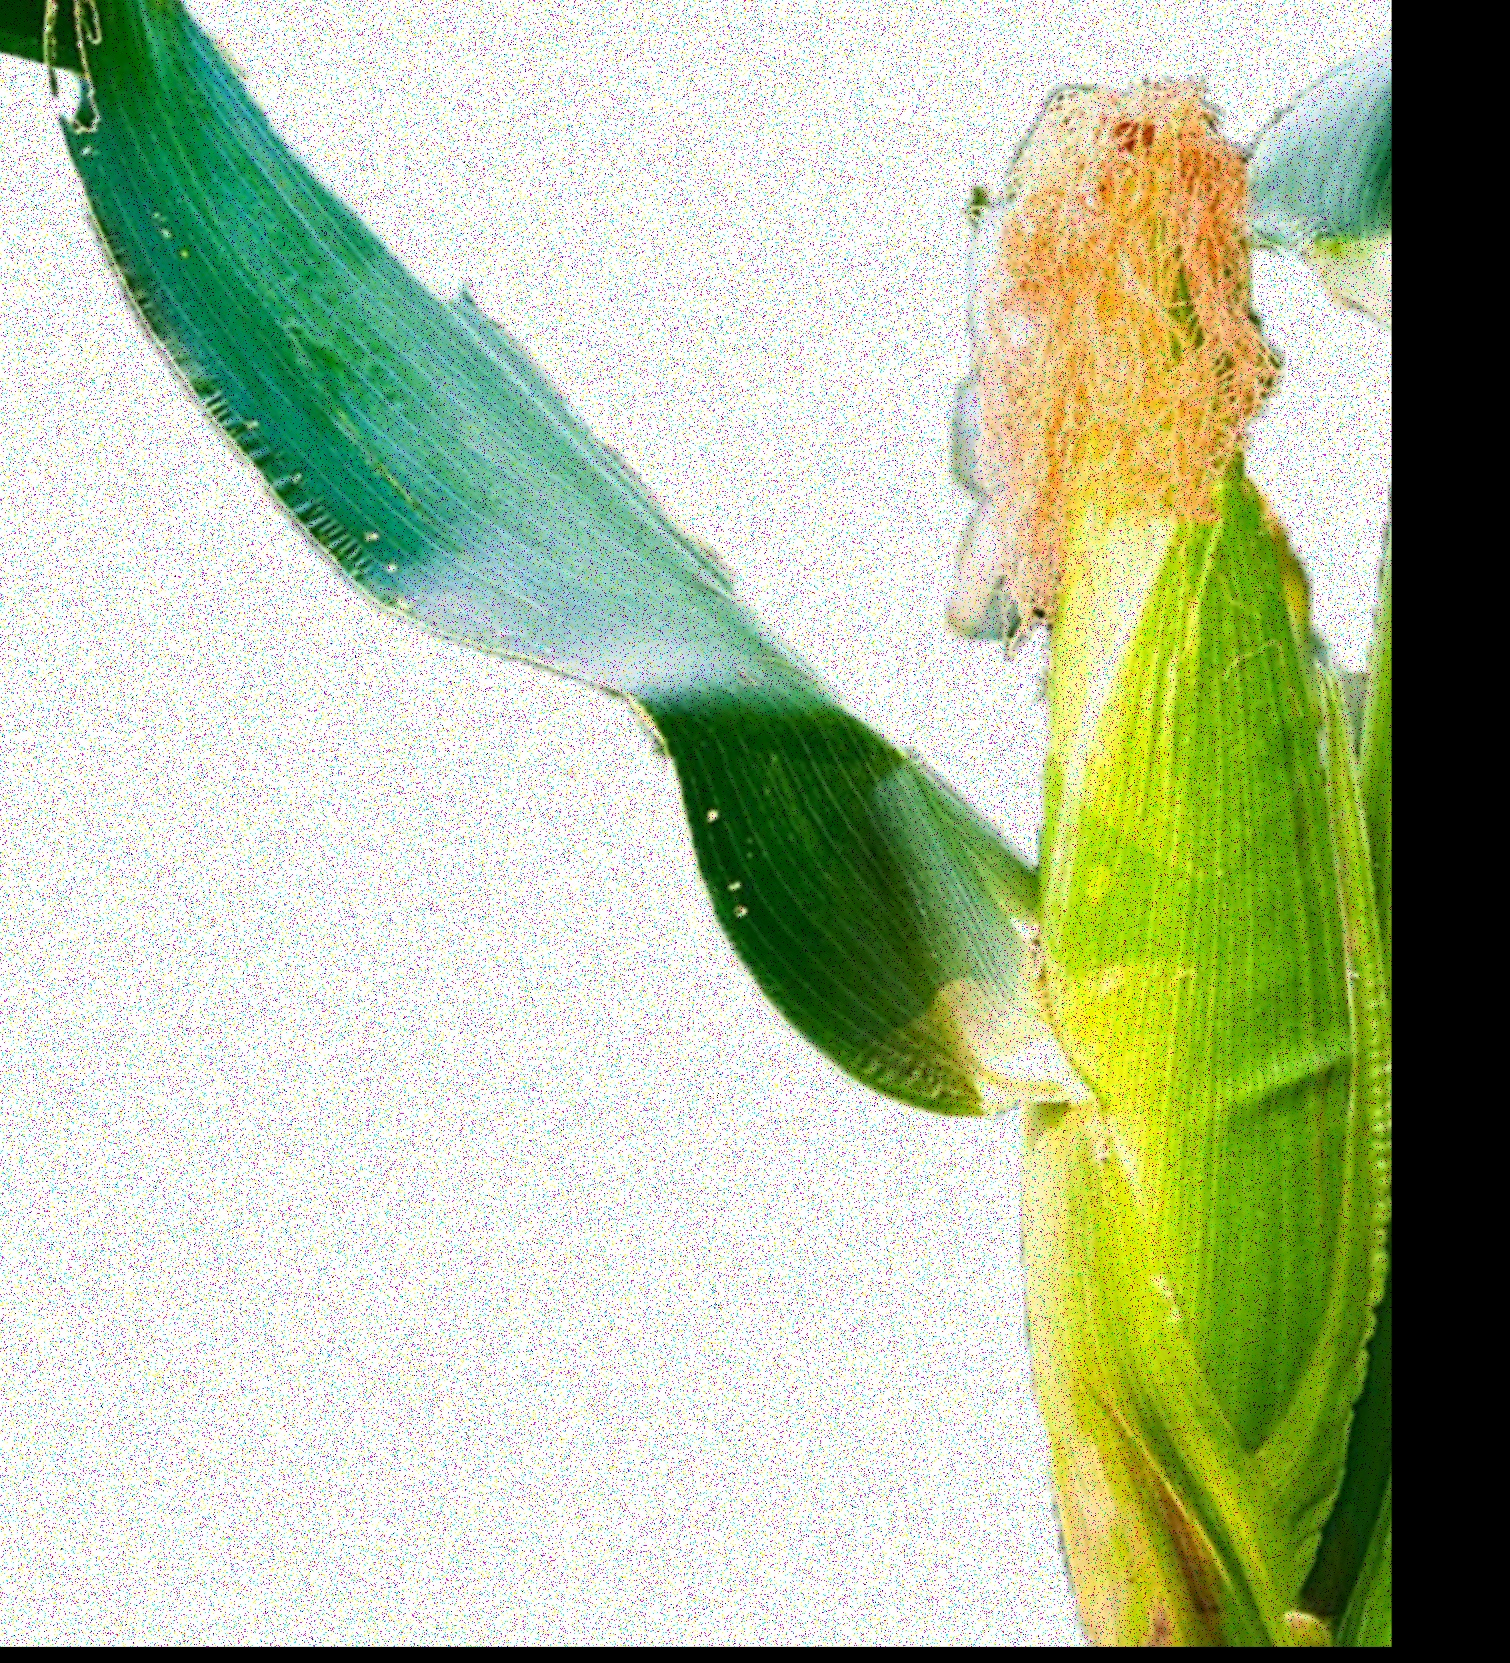corn_plant: (840, 42, 1380, 1620)
